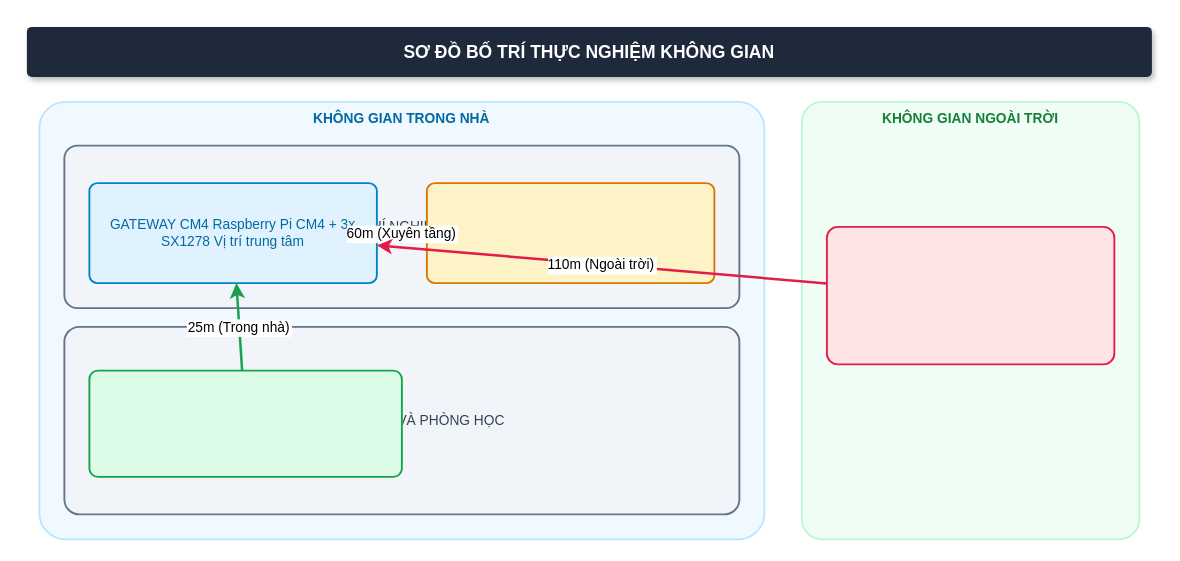
The diagram is 1180 pixels wide and 561 high, and some of its shapes have lost their labels. The shapes that lost their labels are listed below. From the top down, each one's centre as x and y in pixels, then its label:
At point (570, 233): "NODE B (TẦNG 2) Cự ly 60m (Xuyên sàn bê tông)".
At point (970, 295): "NODE C (SÂN TRƯỜNG) Cự ly 110m Môi trường ngoài trời".
At point (245, 423): "NODE A (TẦNG 1) Cự ly 25m (Xuyên vách ngăn)".
